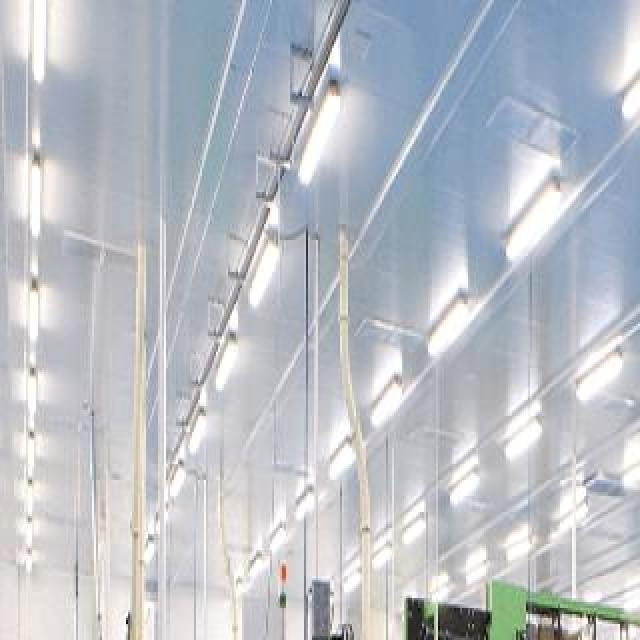fluorescent tube: (282, 76, 360, 204), (495, 167, 578, 255), (245, 202, 291, 316), (573, 336, 631, 413), (14, 140, 51, 244), (422, 287, 471, 360), (365, 367, 411, 435), (500, 415, 555, 469), (26, 0, 54, 104), (620, 8, 640, 138), (438, 462, 487, 514), (326, 433, 369, 482), (20, 275, 49, 347), (16, 347, 42, 424), (217, 331, 246, 398), (13, 425, 45, 483), (182, 411, 222, 456), (291, 482, 325, 533), (393, 507, 435, 545), (15, 495, 40, 553), (622, 438, 640, 494), (22, 462, 38, 522)
